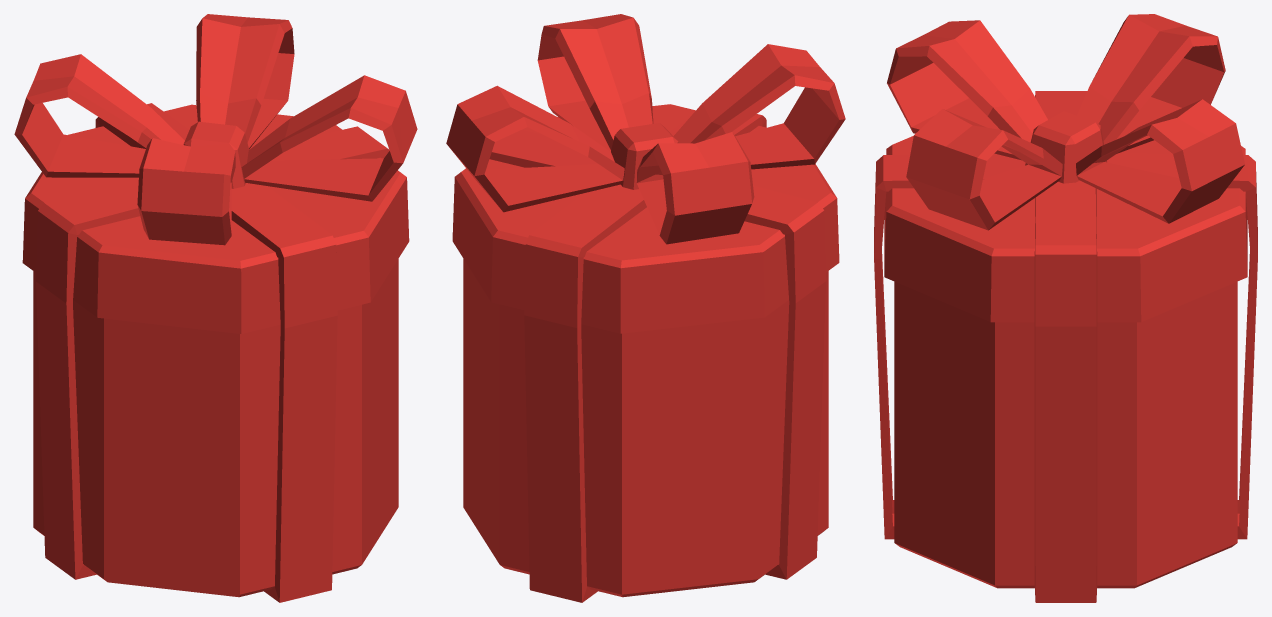
The model's file is SM_Gift_Christmas_Cylinder_C.fbx.
3 views of the same model, side by side, from view 1: azimuth 30°, elevation 25°; view 2: azimuth 150°, elevation 25°; view 3: azimuth 270°, elevation 25° (orthographic).
Parts seen in each view (by area): view 1: gift-christmas-cylinder-c; view 2: gift-christmas-cylinder-c; view 3: gift-christmas-cylinder-c.
Part boxes in pixels (box(x1,y1,x2,y2)): gift-christmas-cylinder-c: box(14, 14, 417, 602); gift-christmas-cylinder-c: box(446, 14, 845, 602); gift-christmas-cylinder-c: box(874, 14, 1257, 602).
Bounding box in the file's own units: 0.2762 × 0.3609 × 0.2762.
